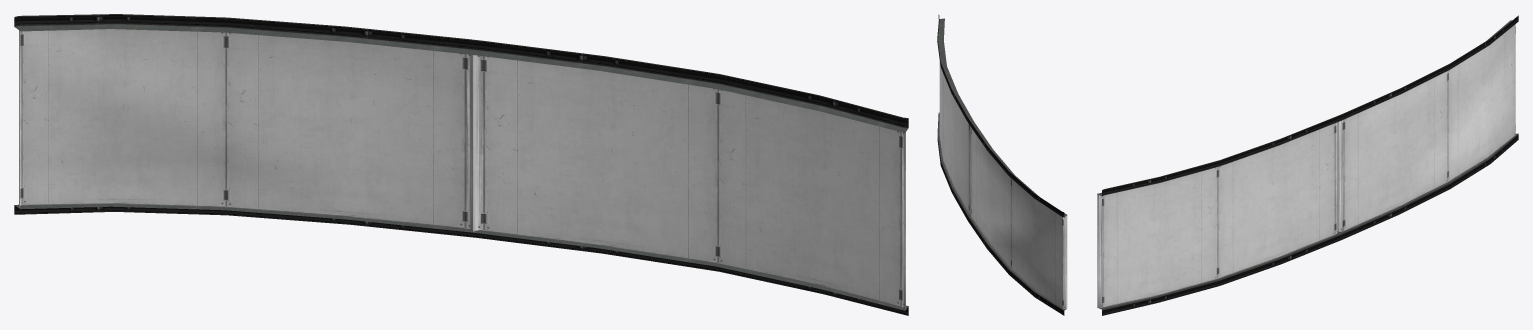
The model's file is Wall_Curve.fbx.
3 views of the same model, side by side, from view 1: azimuth 30°, elevation 25°; view 2: azimuth 150°, elevation 25°; view 3: azimuth 270°, elevation 25° (orthographic). The views are drawn at different scales.
Parts seen in each view (by area): view 1: Neon_Wall_12x4_01B; view 2: Neon_Wall_12x4_01B; view 3: Neon_Wall_12x4_01B.
Boxes of the visible parts, <box> form: Neon_Wall_12x4_01B: <box>14,14,908,315</box>; Neon_Wall_12x4_01B: <box>937,14,1067,315</box>; Neon_Wall_12x4_01B: <box>1097,15,1518,315</box>.
Size of the model in its own units: 1200 by 400 by 1215.
Materials: 2 (2 with a texture image).
